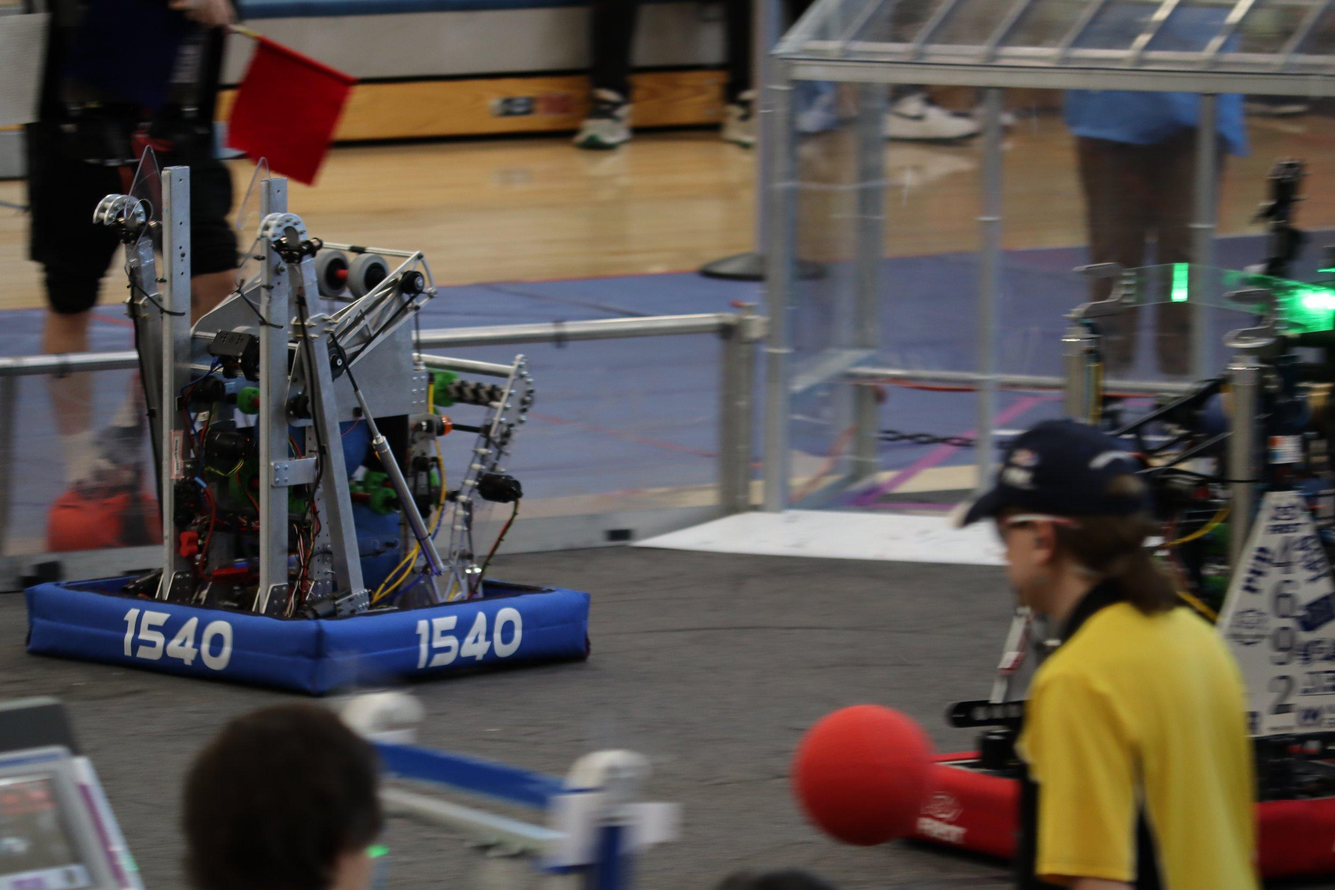robot: (21, 135, 597, 701), (892, 240, 1335, 882), (280, 687, 693, 890)
